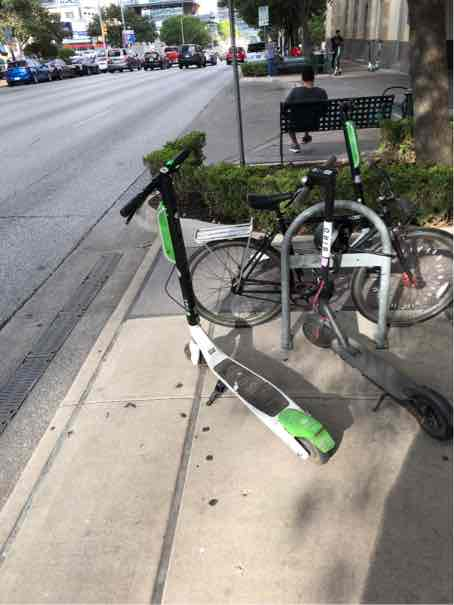scooter: (102, 113, 351, 462)
